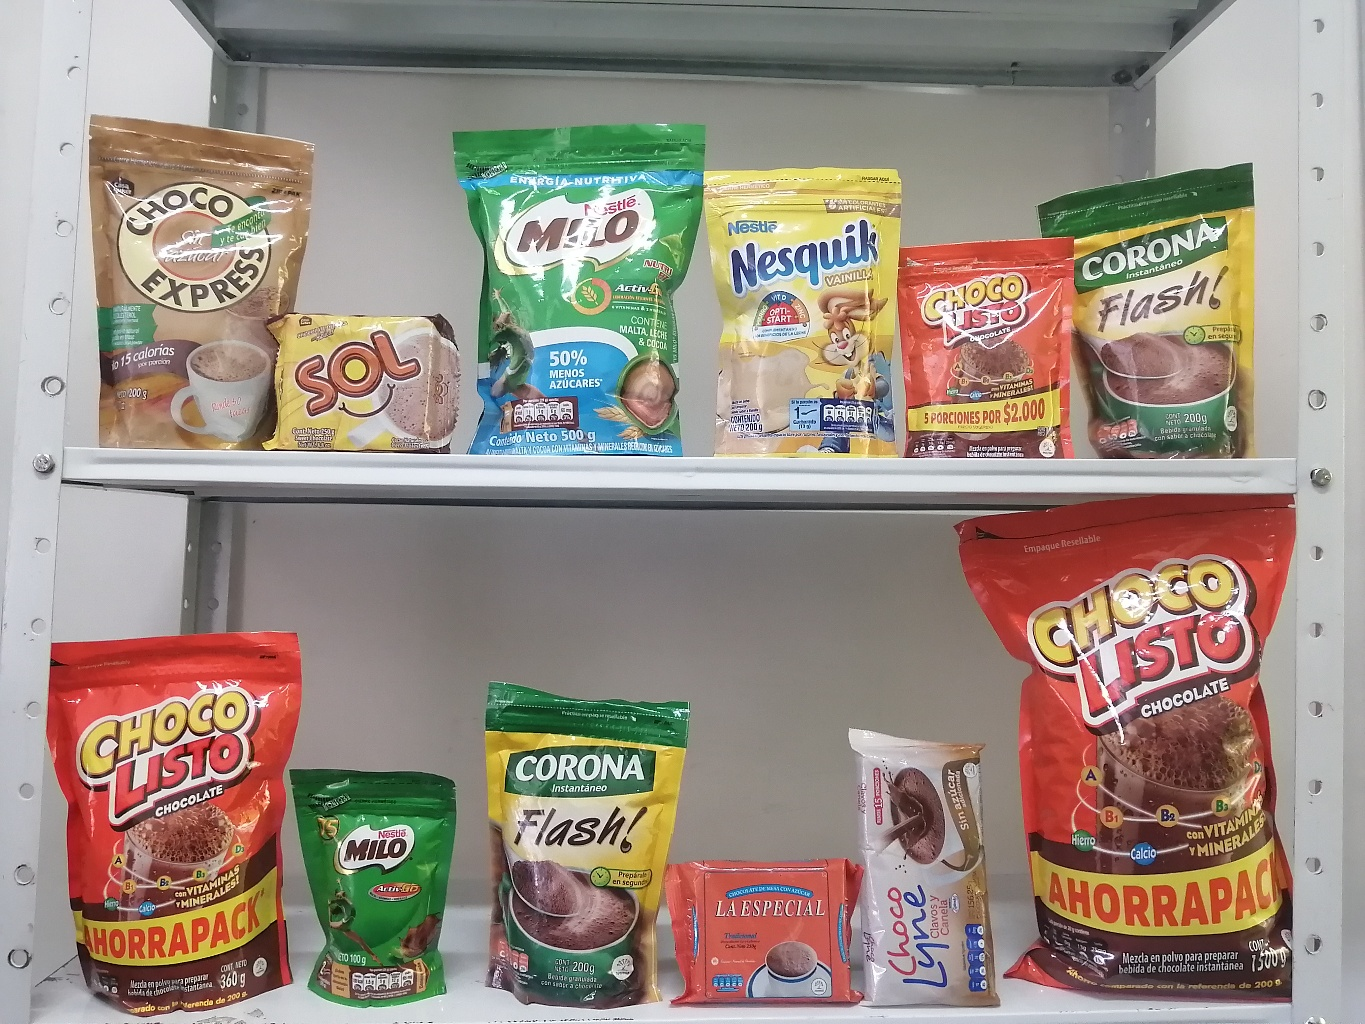COL0170103DYP1,500: (941, 482, 1330, 1011)
COL0170103DYP36000: (30, 603, 324, 1016)
COL0170203DYP10000: (274, 755, 464, 1016)
COL0170205DYP50000: (439, 109, 714, 468)
COL0170306DYP20000: (674, 145, 916, 461)
